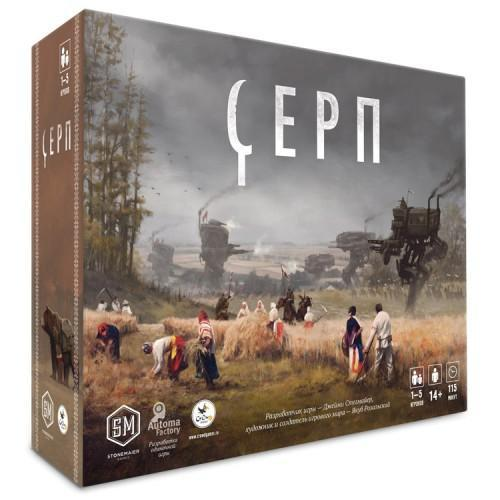foice: (222, 74, 258, 194)
